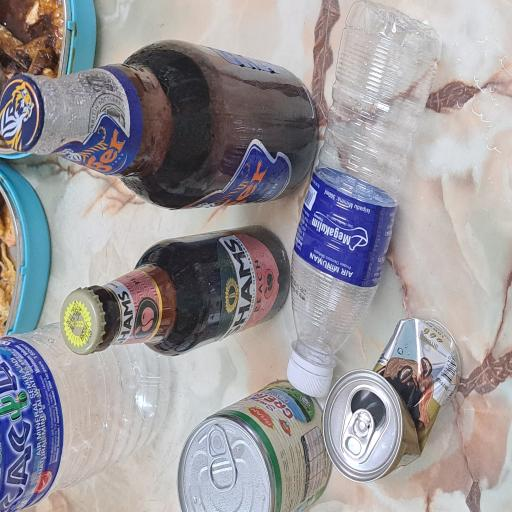can: (0, 240, 98, 442), (22, 430, 149, 512)
glass bottle: (228, 0, 356, 426), (116, 80, 216, 387)
plastic bottle: (85, 377, 380, 512), (0, 0, 142, 230)
plastic bottle cap: (85, 376, 128, 451)
pop tab: (39, 456, 82, 506), (18, 278, 66, 316)
